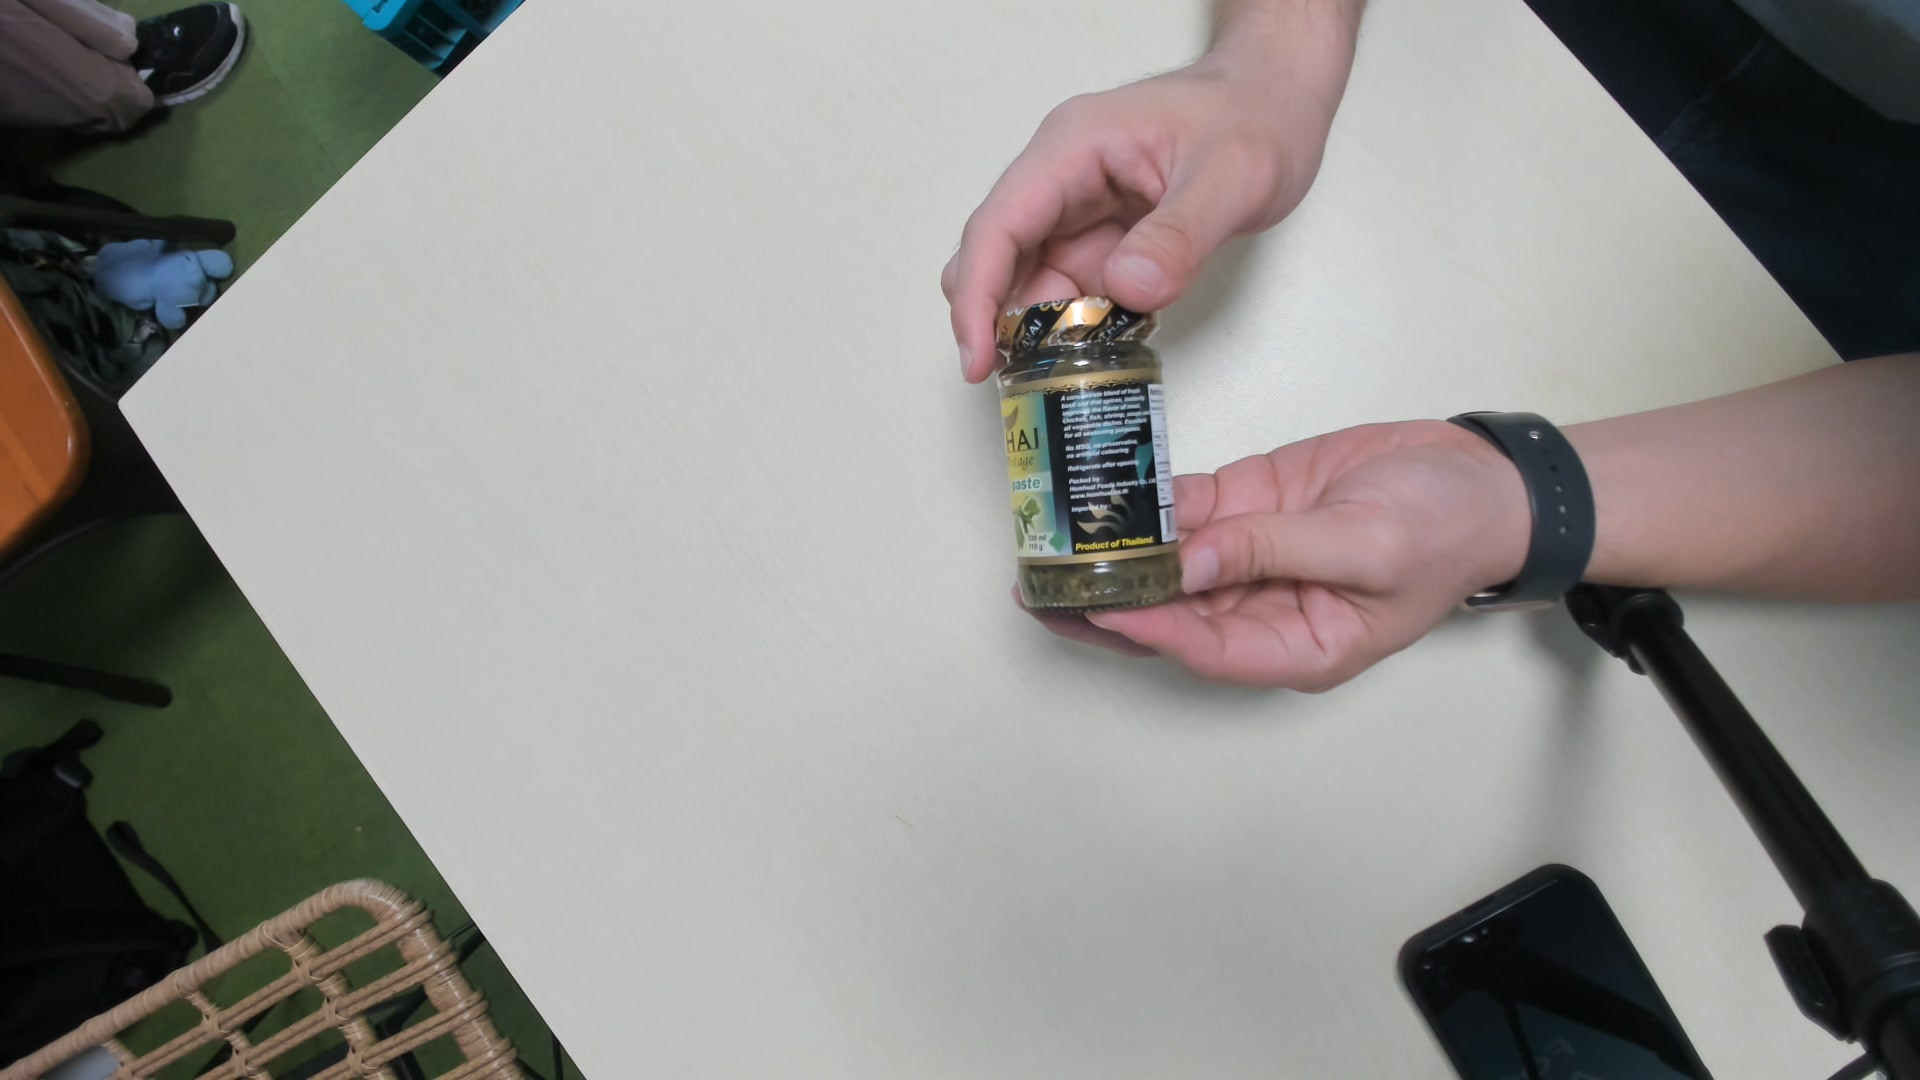OtherSauceDressing_0-99g_Halal_NonHealthy: (996, 289, 1183, 615)
